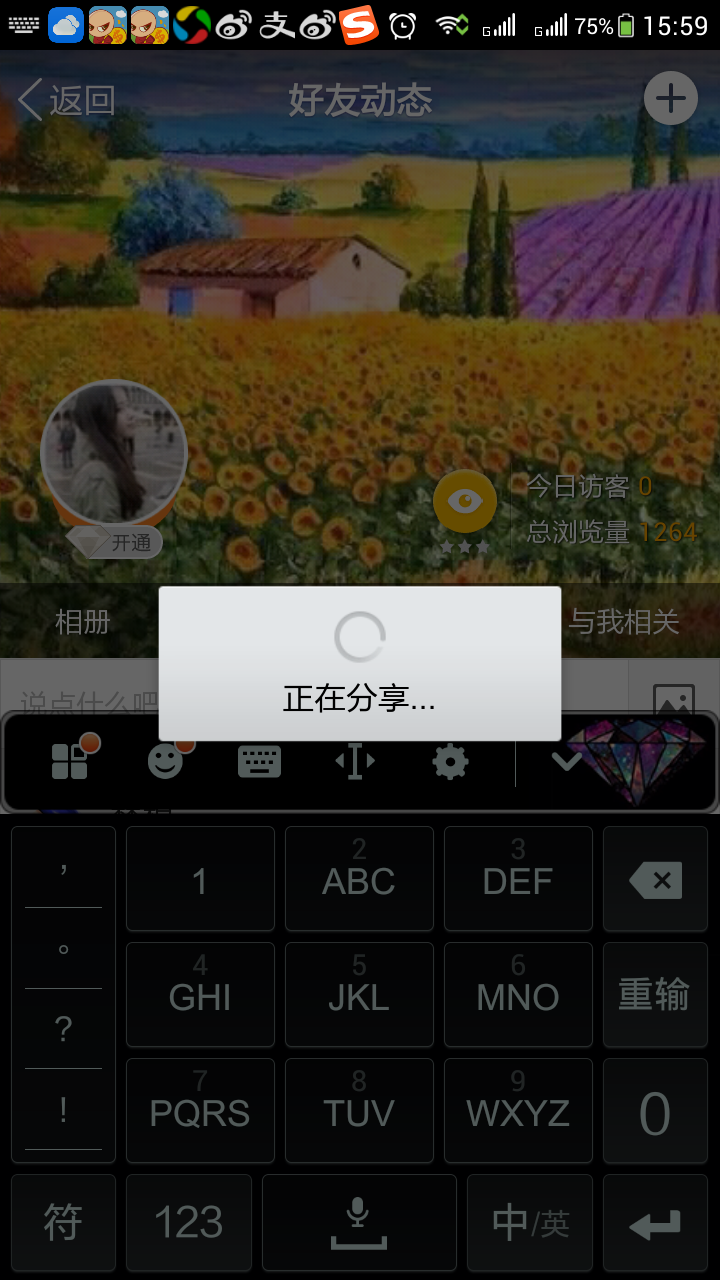alert: (154, 581, 567, 746)
